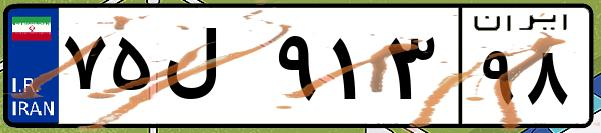1: (330, 28, 385, 110)
3: (385, 28, 445, 110)
5: (110, 28, 158, 98)
7: (57, 26, 110, 100)
8: (525, 38, 570, 115)
9: (270, 28, 330, 110), (475, 38, 525, 113)
ل: (158, 20, 270, 120)
